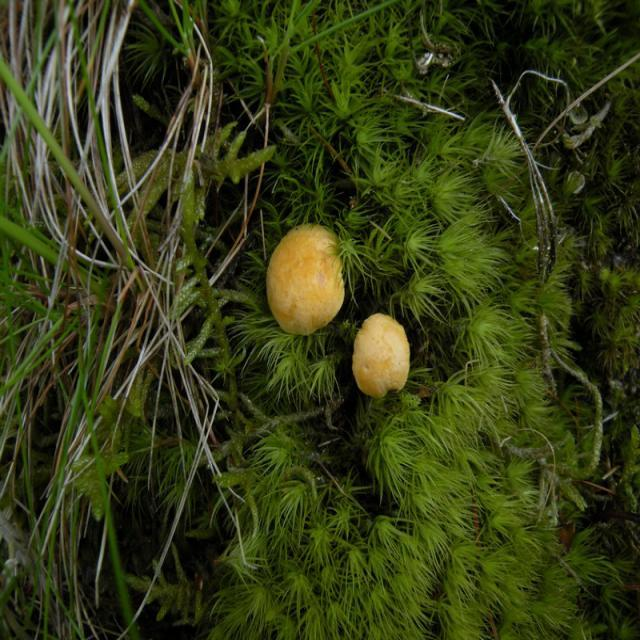Cantharellus cibarius: (270, 224, 345, 331), (354, 312, 411, 397)
